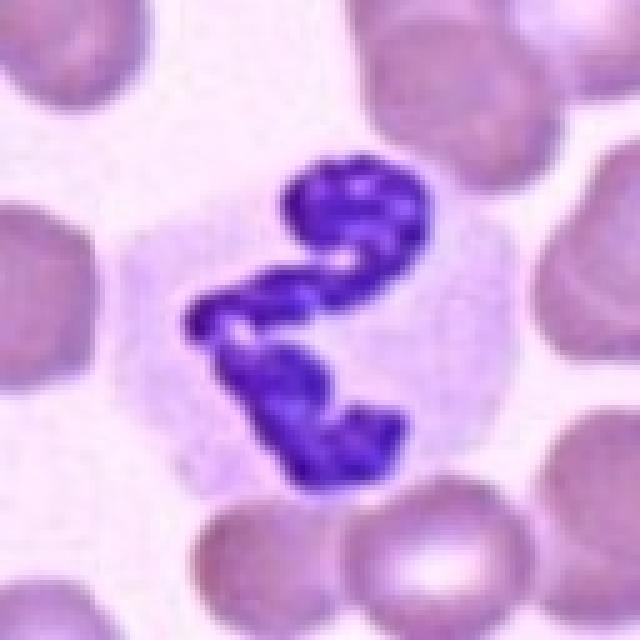neutro: (77, 94, 553, 519)
